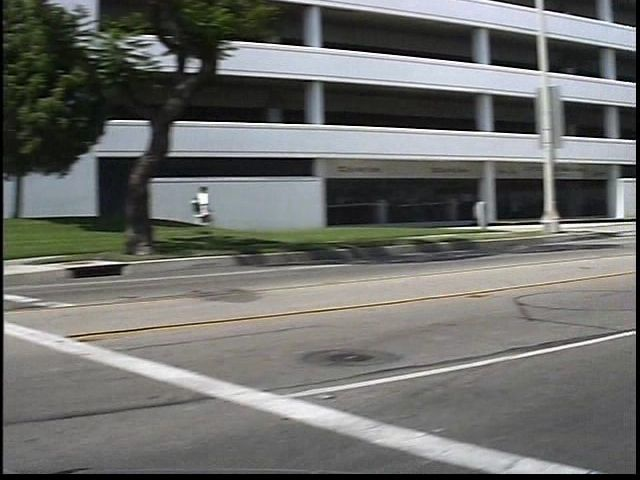person: (208, 177, 235, 244)
